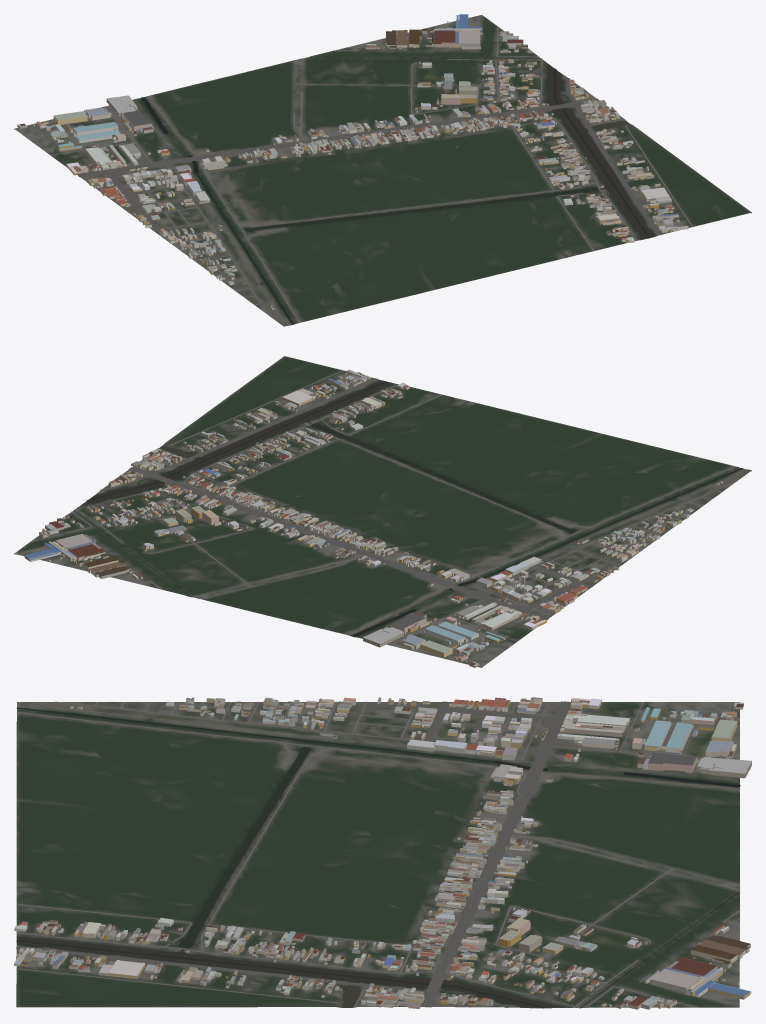
3 views of the same model, one above another, from view 1: azimuth 30°, elevation 25°; view 2: azimuth 150°, elevation 25°; view 3: azimuth 270°, elevation 25° (orthographic). The views are drawn at different scales.
Visible parts, largest first — view 1: ground, buildings, roads, water; view 2: ground, buildings, roads, water; view 3: ground, buildings, roads, water.
Part boxes in pixels (x1,y1,x2,y2): ground: (14,15,751,326); buildings: (17,14,688,309); roads: (16,16,692,326); water: (141,57,653,324); ground: (14,356,751,667); buildings: (24,369,722,667); roads: (19,370,750,667); water: (73,380,743,636); ground: (16,702,740,1008); buildings: (14,697,751,1009); roads: (16,701,740,1007); water: (16,707,740,1008).
Bounding box in the file's own units: 1417 × 24.76 × 1429.
